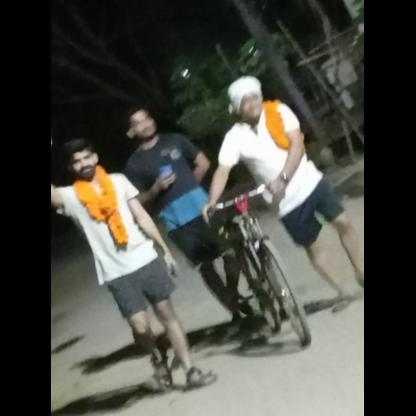Bicycle: (189, 173, 319, 355)
